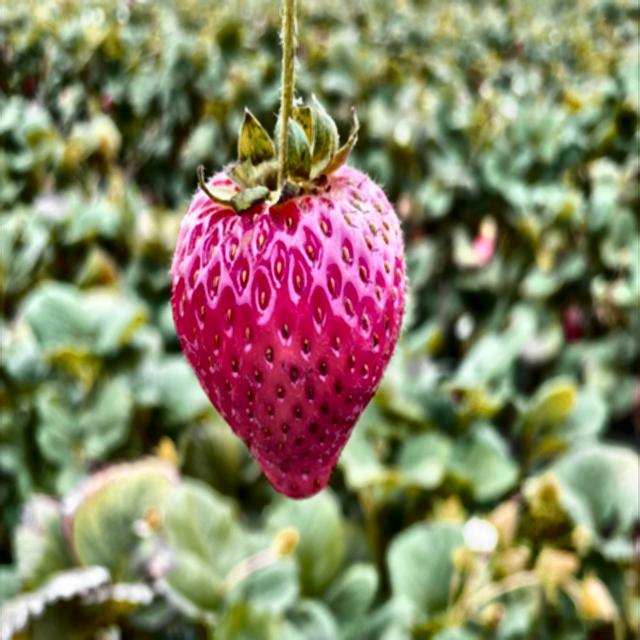strawberry: (171, 0, 406, 498)
